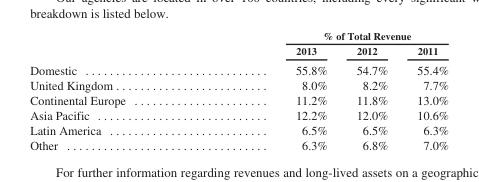table: (29, 29, 448, 151)
table column: (29, 29, 209, 151), (209, 29, 341, 151), (341, 29, 401, 151), (401, 29, 448, 151)
table column header: (29, 29, 448, 59)
table row: (29, 59, 448, 77), (29, 42, 448, 59), (29, 77, 448, 92), (29, 92, 448, 107), (29, 107, 448, 122), (29, 122, 448, 137), (29, 137, 448, 151), (29, 29, 448, 42)
table spanning cell: (209, 29, 448, 42)
